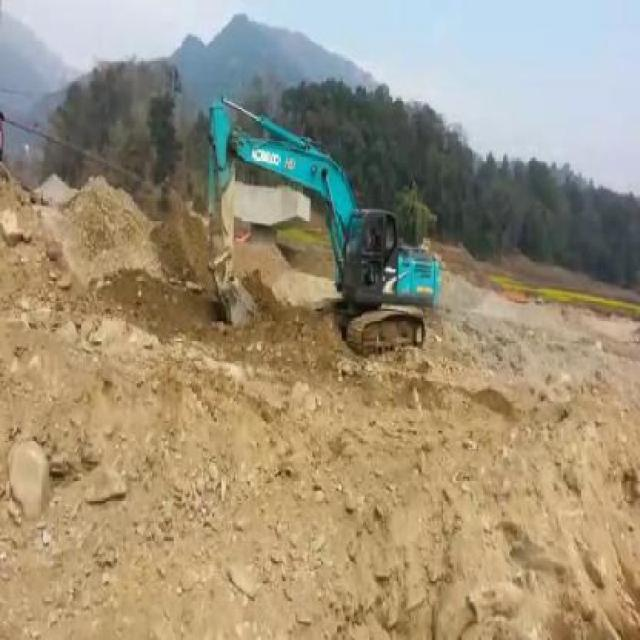excavator: (200, 87, 438, 362)
